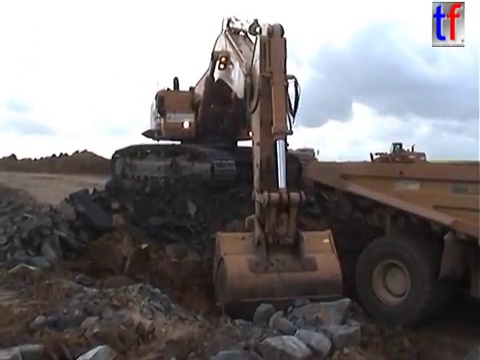excavator: (107, 11, 349, 334)
truck: (300, 158, 480, 330)
wheel loader: (357, 140, 430, 170)
